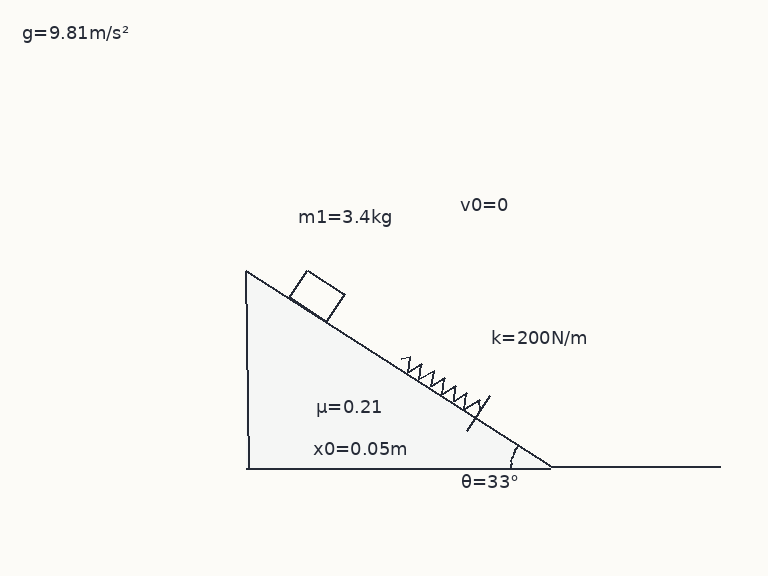block: (288, 268, 346, 323)
ramp: (245, 267, 553, 469)
spring: (399, 354, 482, 412)
